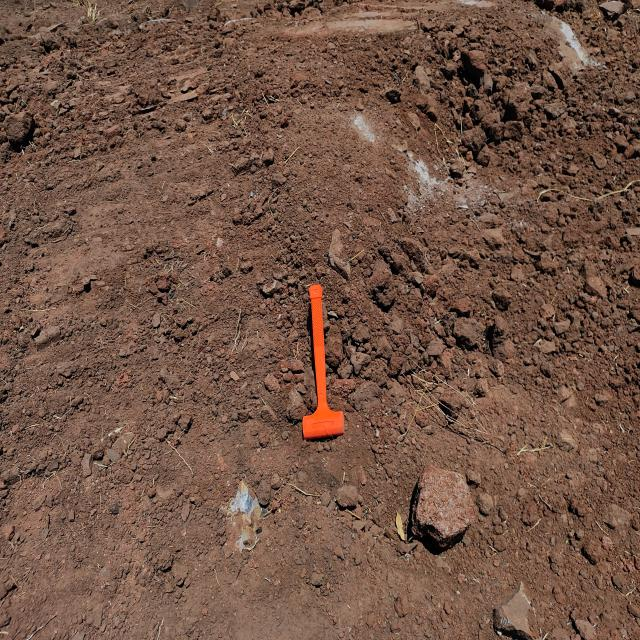Orange_hammer: (301, 283, 345, 440)
